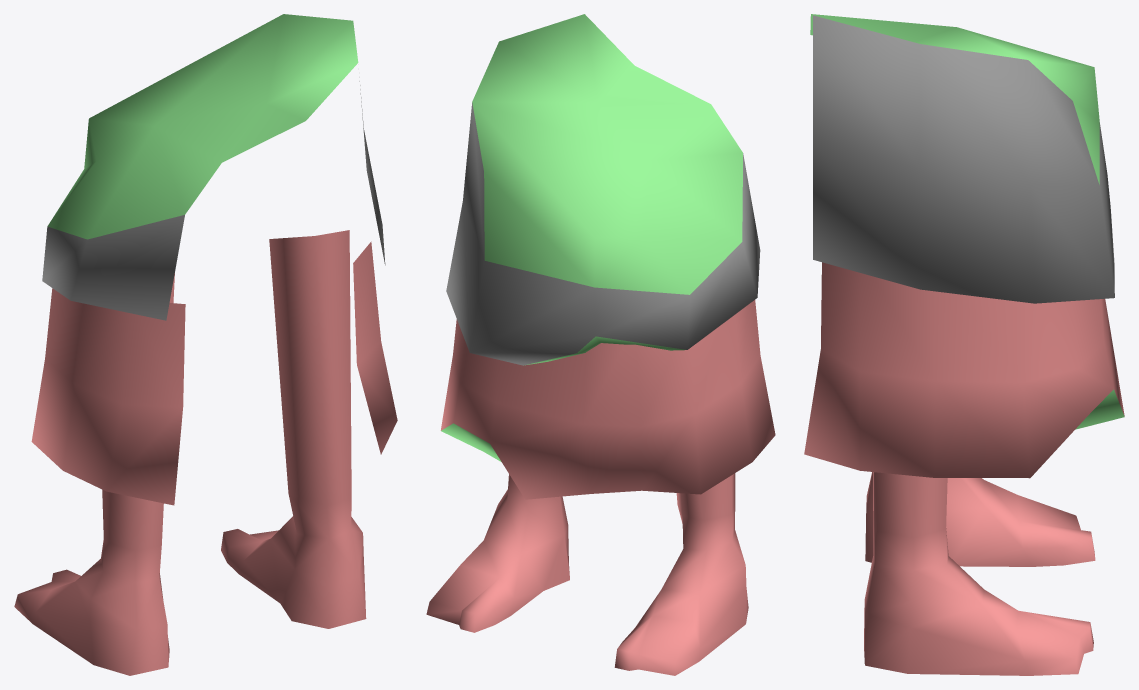
File: SSQ_statue01_b02.gltf
3 views of the same model, side by side, from view 1: azimuth 30°, elevation 25°; view 2: azimuth 150°, elevation 25°; view 3: azimuth 270°, elevation 25° (orthographic). The views are drawn at different scales.
Parts seen in each view (by area): view 1: SSQ_statue01_b02; view 2: SSQ_statue01_b02; view 3: SSQ_statue01_b02.
Boxes of the visible parts, x1,y1,x2,y2 form: SSQ_statue01_b02: (14,14,397,675); SSQ_statue01_b02: (426,14,775,675); SSQ_statue01_b02: (804,14,1124,675).
Size of the model in its own units: 0.4899 by 0.871 by 0.3989.
